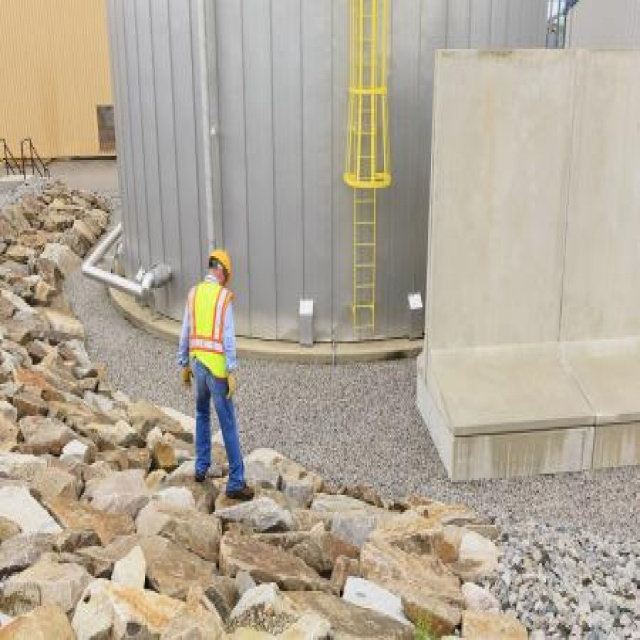Helmet: (199, 243, 238, 291)
Reflective vest: (182, 280, 241, 388)
